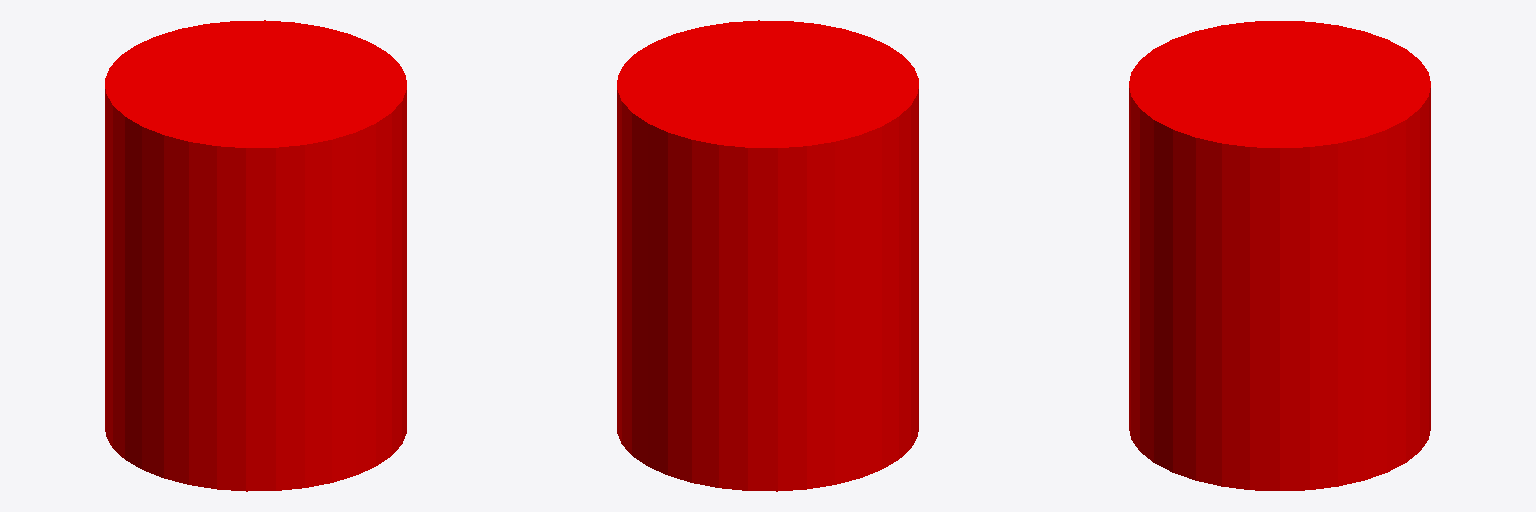
URDF robot description (pringles):
<?xml version="1.0"?>
<robot name="pringles">

  <material name="red">
    <color rgba="1 0.0 0.0 1"/>
  </material>

  <link name="base_link">
    <visual>
      <geometry>
        <cylinder length="0.1" radius="0.04"/>
      </geometry>
      <material name="red"/>
    </visual>
    <collision>
      <geometry>
        <cylinder length="0.1" radius="0.04"/>
      </geometry>
    </collision>
    <inertial>
      <origin rpy="0 0 0" xyz="0 0 0"/>
      <mass value="1.0"/>
      <inertia ixx="0.001" ixy="0" ixz="0" iyy="0.001" iyz="0" izz="0.001"/>
    </inertial>
  </link>

</robot>

--- What the picture shows (computed from the rendered views, not written in the file) ---
3 views of the same robot in one strip: view 1: azimuth 30°, elevation 25°; view 2: azimuth 150°, elevation 25°; view 3: azimuth 270°, elevation 25° (orthographic).
Robot: pringles — 1 links, 0 joints (none); root link base_link; default pose: all joints at 0.
Links seen in each view (by area): view 1: base_link; view 2: base_link; view 3: base_link.
Boxes of the visible links, x1,y1,x2,y2 form: base_link: [105, 20, 406, 491]; base_link: [617, 20, 918, 491]; base_link: [1129, 21, 1430, 490].
Size in the robot's own frame: 0.08 by 0.08 by 0.1 metres.
Geometry: primitives only (box / cylinder / sphere), no mesh files.